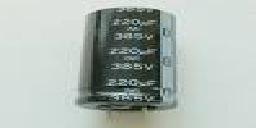Electrolytic-capacitor: (86, 3, 180, 124)
